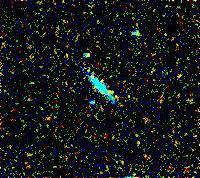star: (96, 76, 126, 106)
